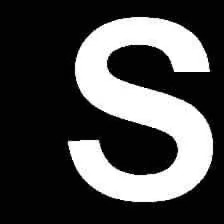LTR_S: (57, 10, 219, 207)
